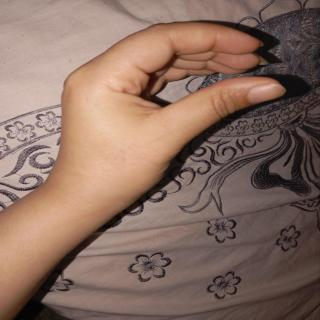JEEM: (46, 12, 290, 209)
